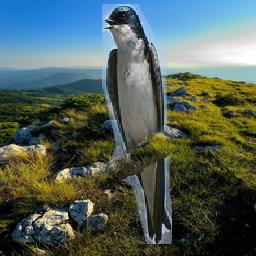Swallow: (102, 4, 172, 244)
